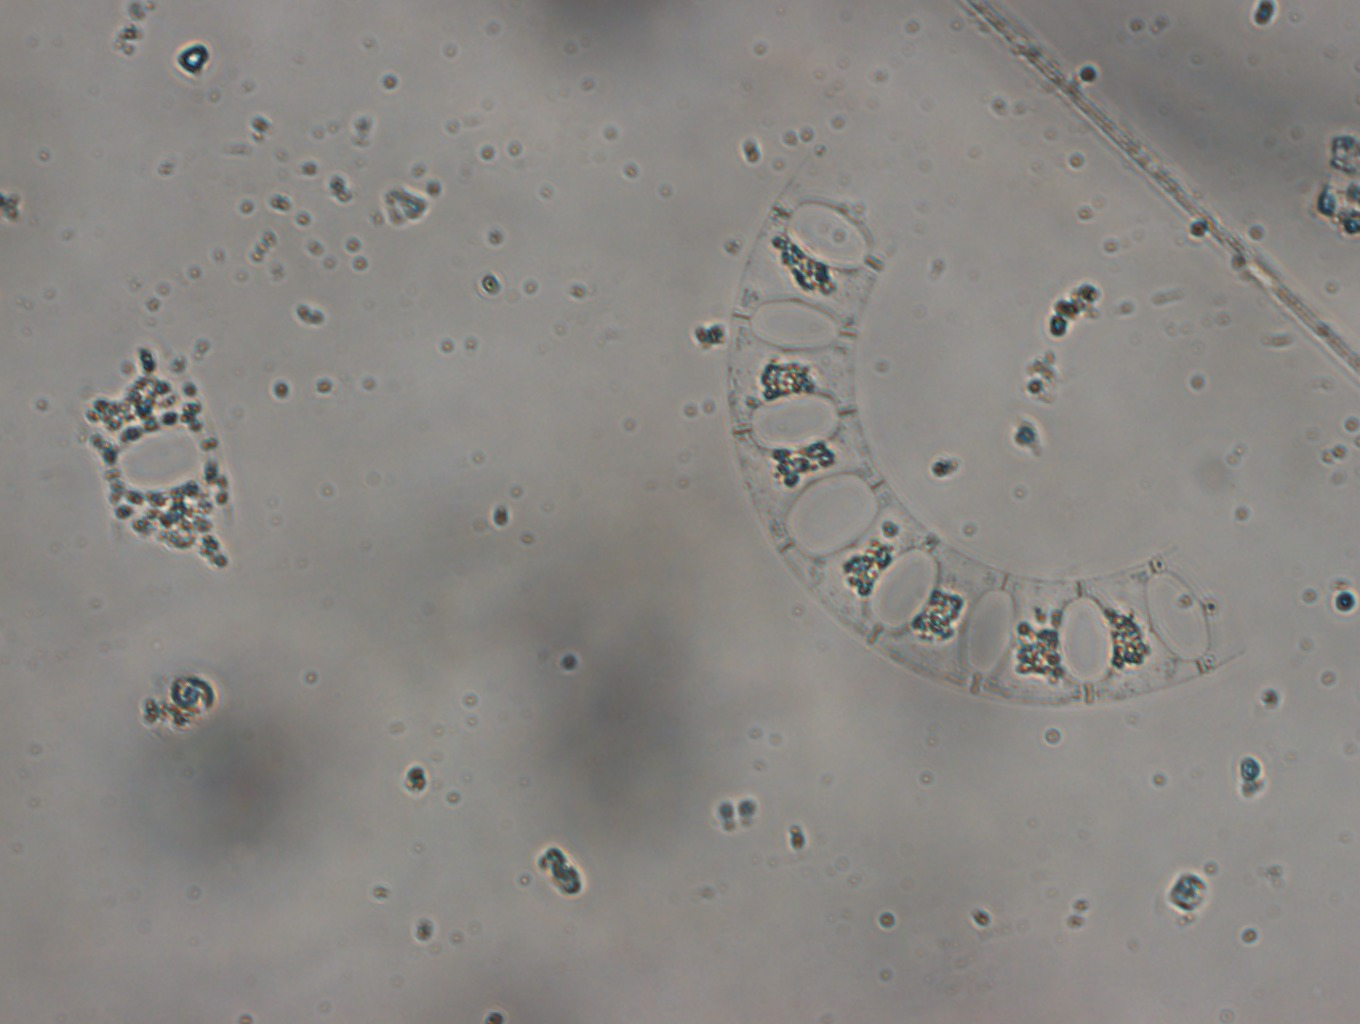eucampia: (727, 160, 1230, 719), (65, 335, 233, 568)
